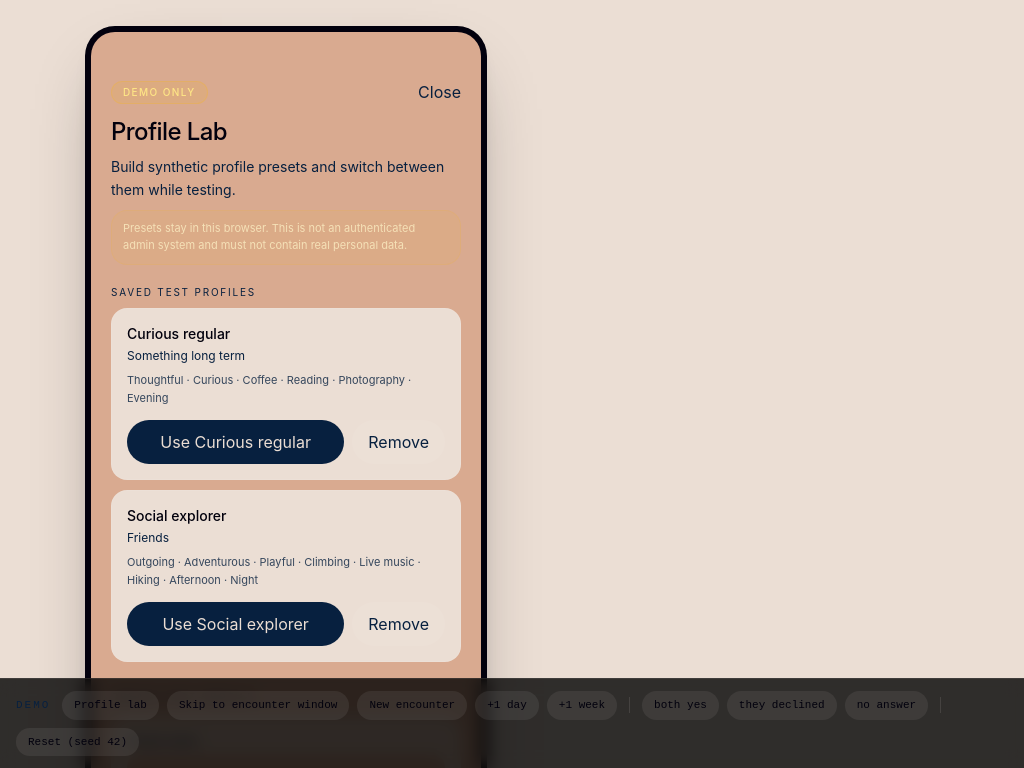
Test case: demo Profile Lab › removes a saved synthetic profile
Check: the heading "Curious regular" is shown, box [127,324,245,344]
What coordinates should you click on to do the following:
click the button with aria-label "Remove Curious regular"
I would click on:
 (399, 442)
Its box is [352,420,445,464].
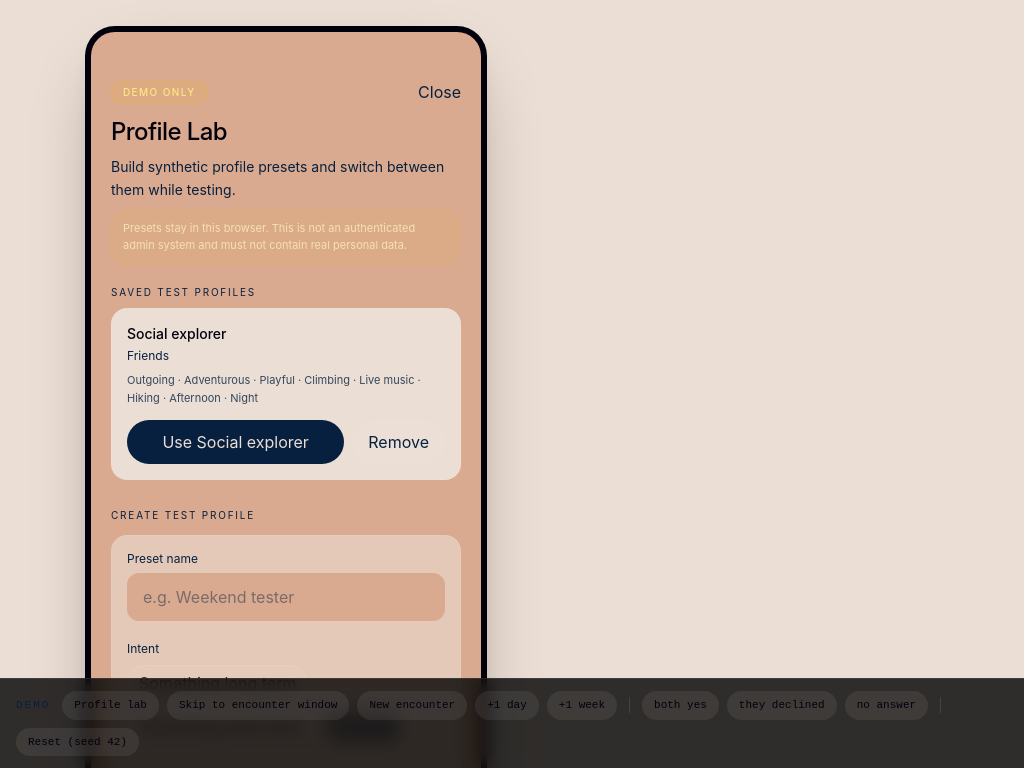
Check: the heading "Curious regular" is gone
